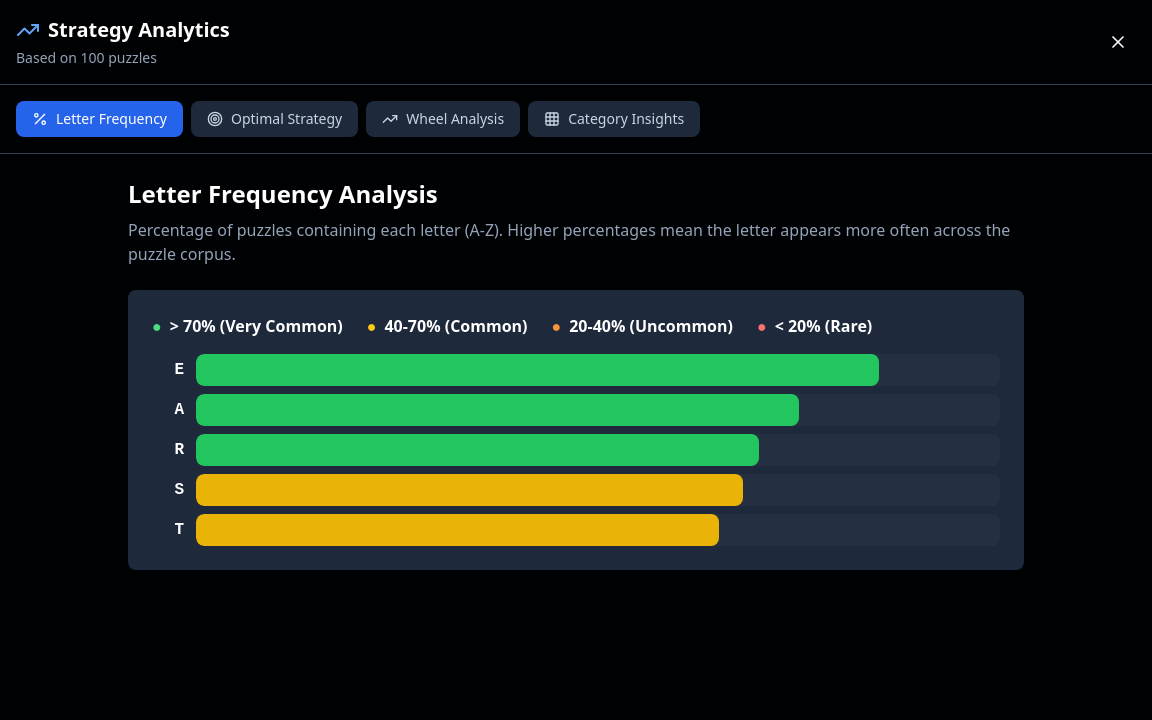
Test: StrategyDashboard › should display wheel analysis data
Step 1. Click the button "Wheel Analysis" → (443, 119), box x1=366 y1=101 x2=520 y2=137
(page scrolled)
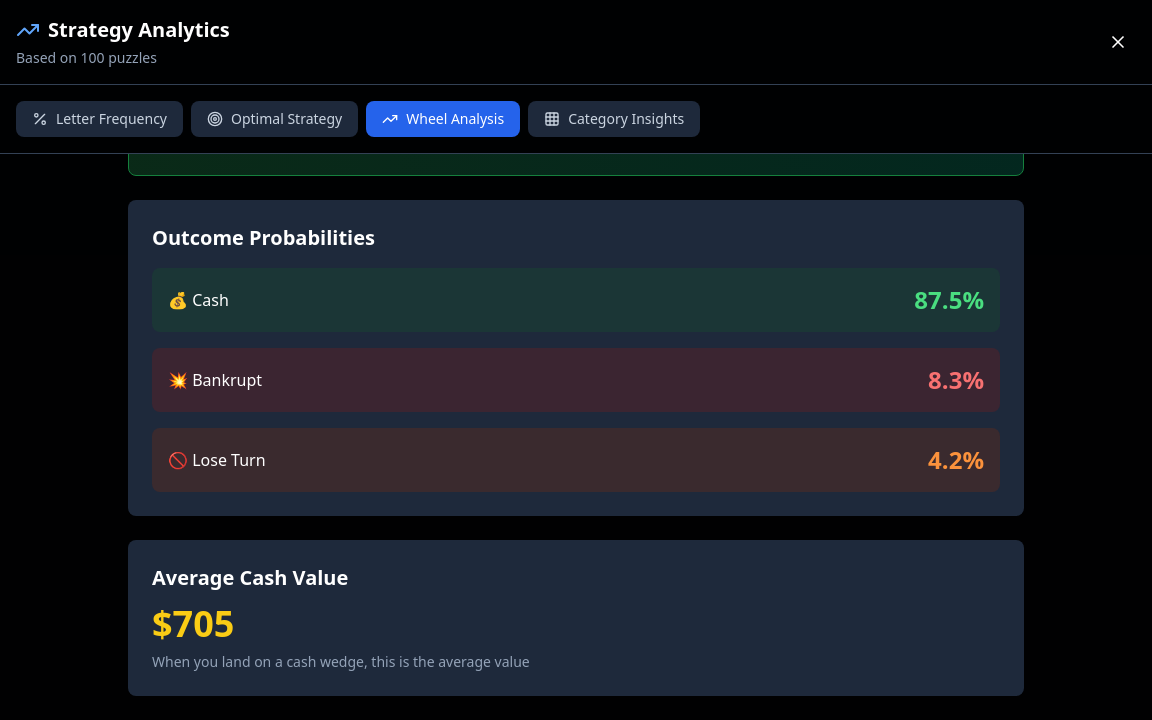
Now the text "💰 Cash" is shown, box x1=168 y1=288 x2=229 y2=312
Now the text "💥 Bankrupt" is shown, box x1=168 y1=368 x2=262 y2=392
Now the text "🚫 Lose Turn" is shown, box x1=168 y1=448 x2=266 y2=472
